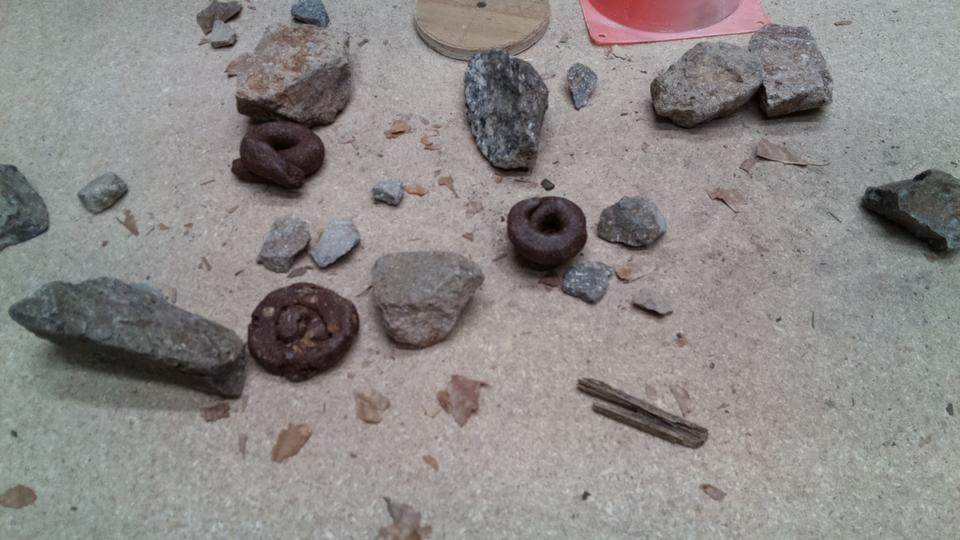poop: (246, 281, 360, 379), (228, 121, 329, 187), (507, 194, 590, 270)
